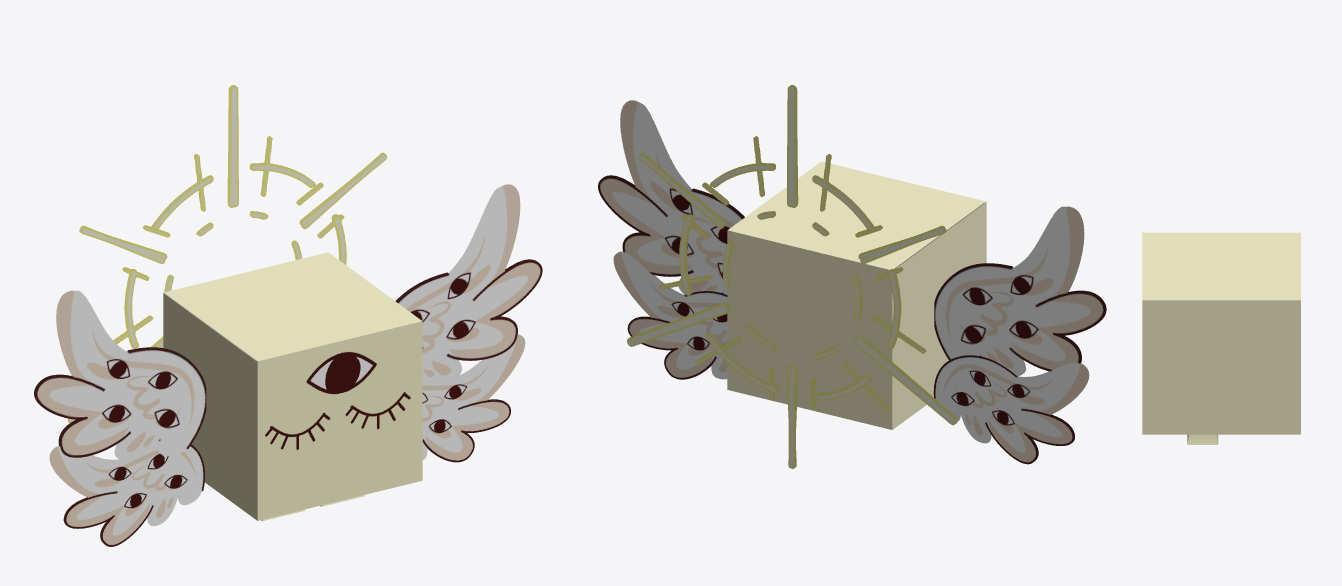
The model's file is Pet_Angel.fbx.
3 renders of one model, left to right at view 1: azimuth 30°, elevation 25°; view 2: azimuth 150°, elevation 25°; view 3: azimuth 270°, elevation 25°, orthographic. The views are drawn at different scales.
Parts seen in each view (by area): view 1: Pet_Angel, Pet_Angel.001; view 2: Pet_Angel, Pet_Angel.001; view 3: Pet_Angel.
Boxes of the visible parts, x1,y1,x2,y2 form: Pet_Angel: (68, 85, 422, 521); Pet_Angel.001: (34, 184, 542, 546); Pet_Angel: (627, 85, 986, 468); Pet_Angel.001: (598, 100, 1106, 464); Pet_Angel: (1142, 232, 1300, 444).
Size of the model in its own units: 1192 by 987 by 435.
1 material, 1 textured.
